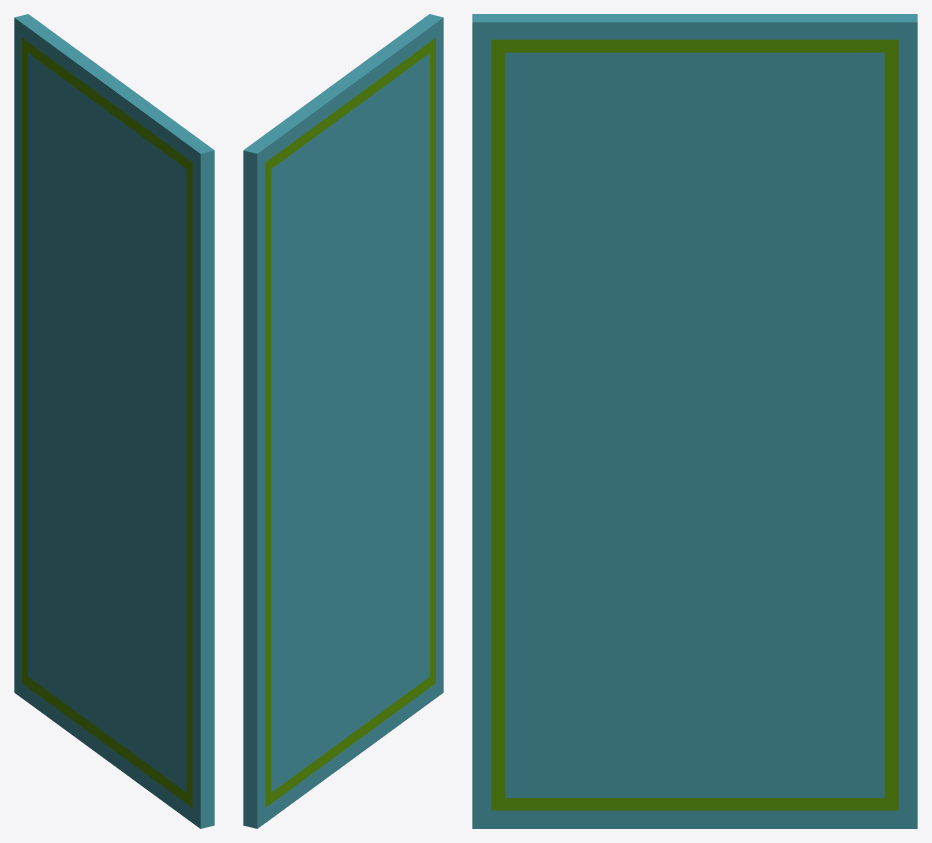
File: Prop_SC_Crist_02.FBX
The picture shows the model from 3 angles, left to right: view 1: azimuth 30°, elevation 25°; view 2: azimuth 150°, elevation 25°; view 3: azimuth 270°, elevation 25°; orthographic projection. The views are drawn at different scales.
Visible parts, largest first — view 1: ModuleSC_Crist001; view 2: ModuleSC_Crist001; view 3: ModuleSC_Crist001.
Part boxes in pixels (<box>): ModuleSC_Crist001: <box>14,14,214,828</box>; ModuleSC_Crist001: <box>243,14,443,828</box>; ModuleSC_Crist001: <box>472,14,917,828</box>.
Size of the model in its own units: 1.74 by 78.67 by 39.37.
